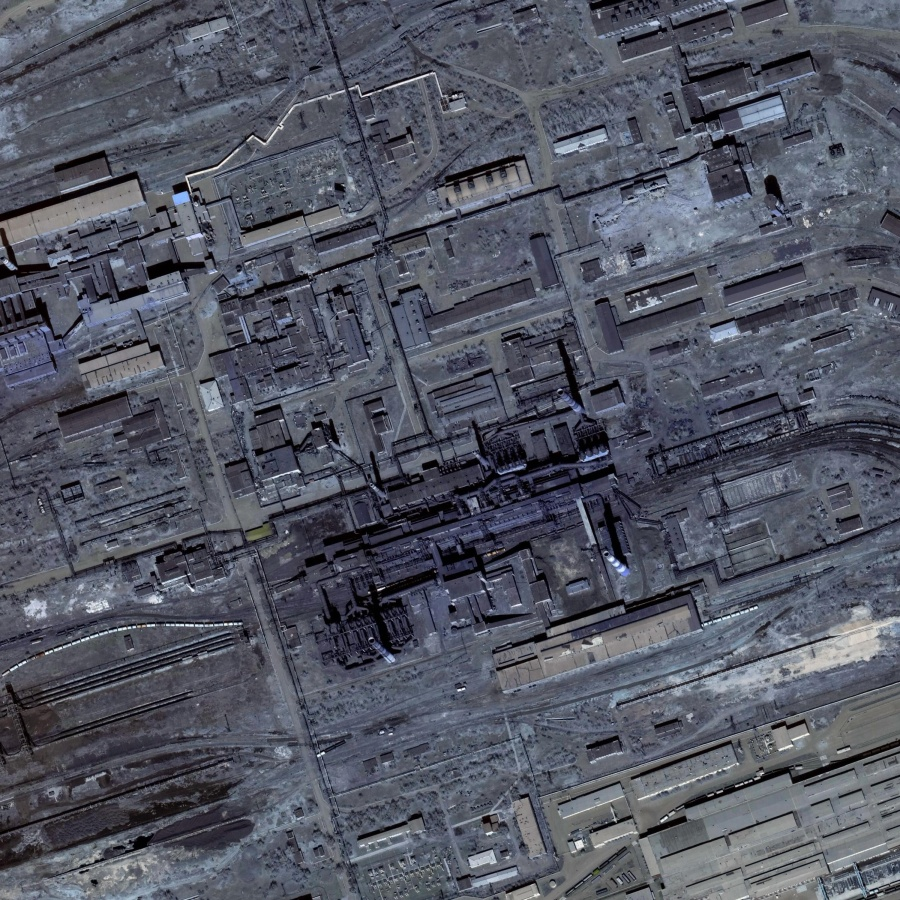PowerPlant: (298, 376, 650, 670)
